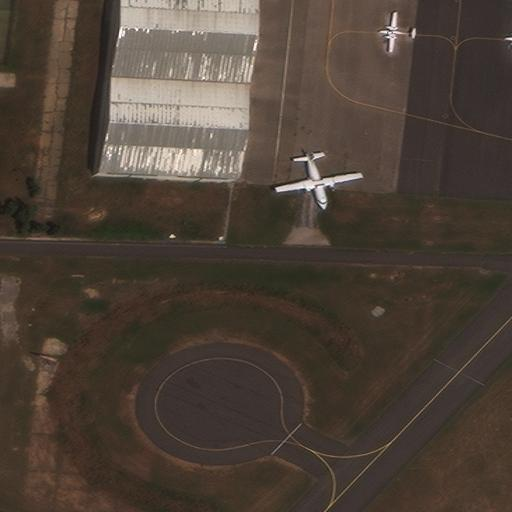Medium Civil Transport: (274, 150, 363, 212)
Small Civil Transport: (376, 12, 418, 52)
